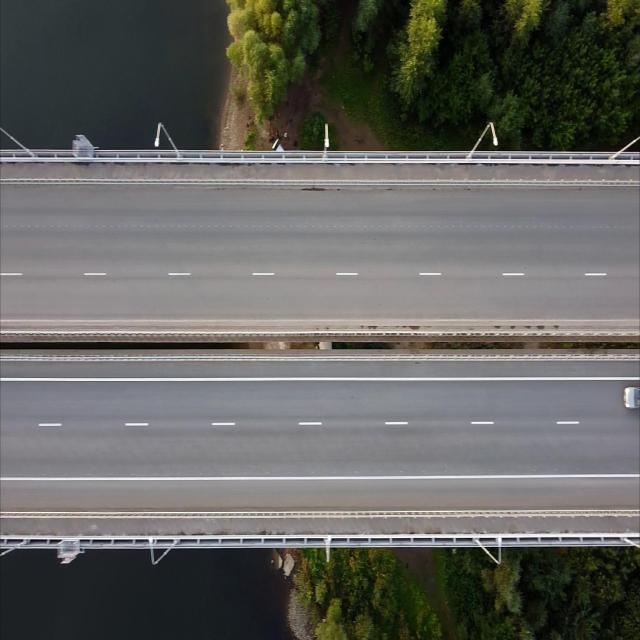Car: (623, 385, 640, 410)
